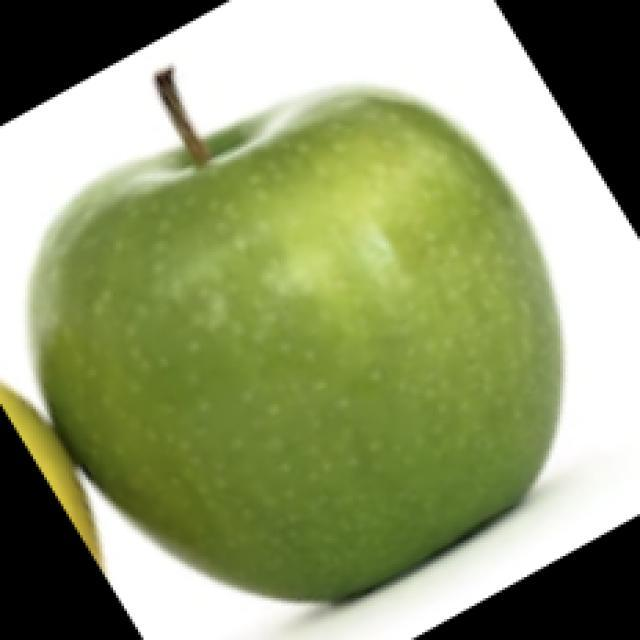Fresh Apple: (24, 87, 570, 607)
